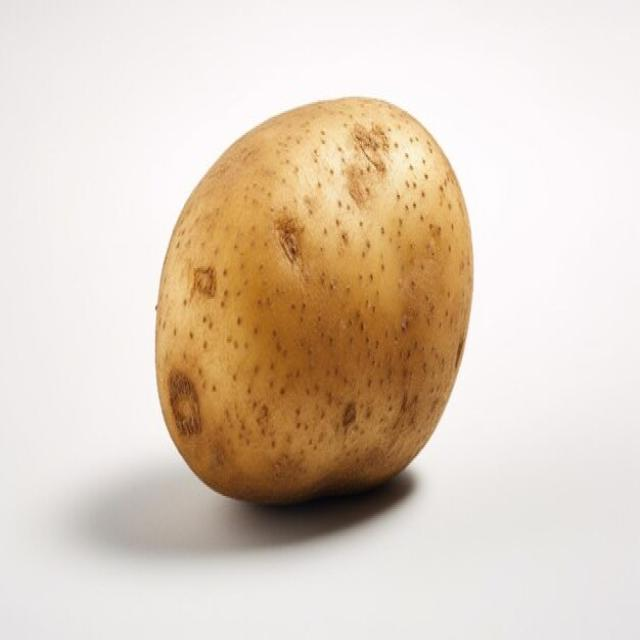Potato: (149, 82, 481, 524)
